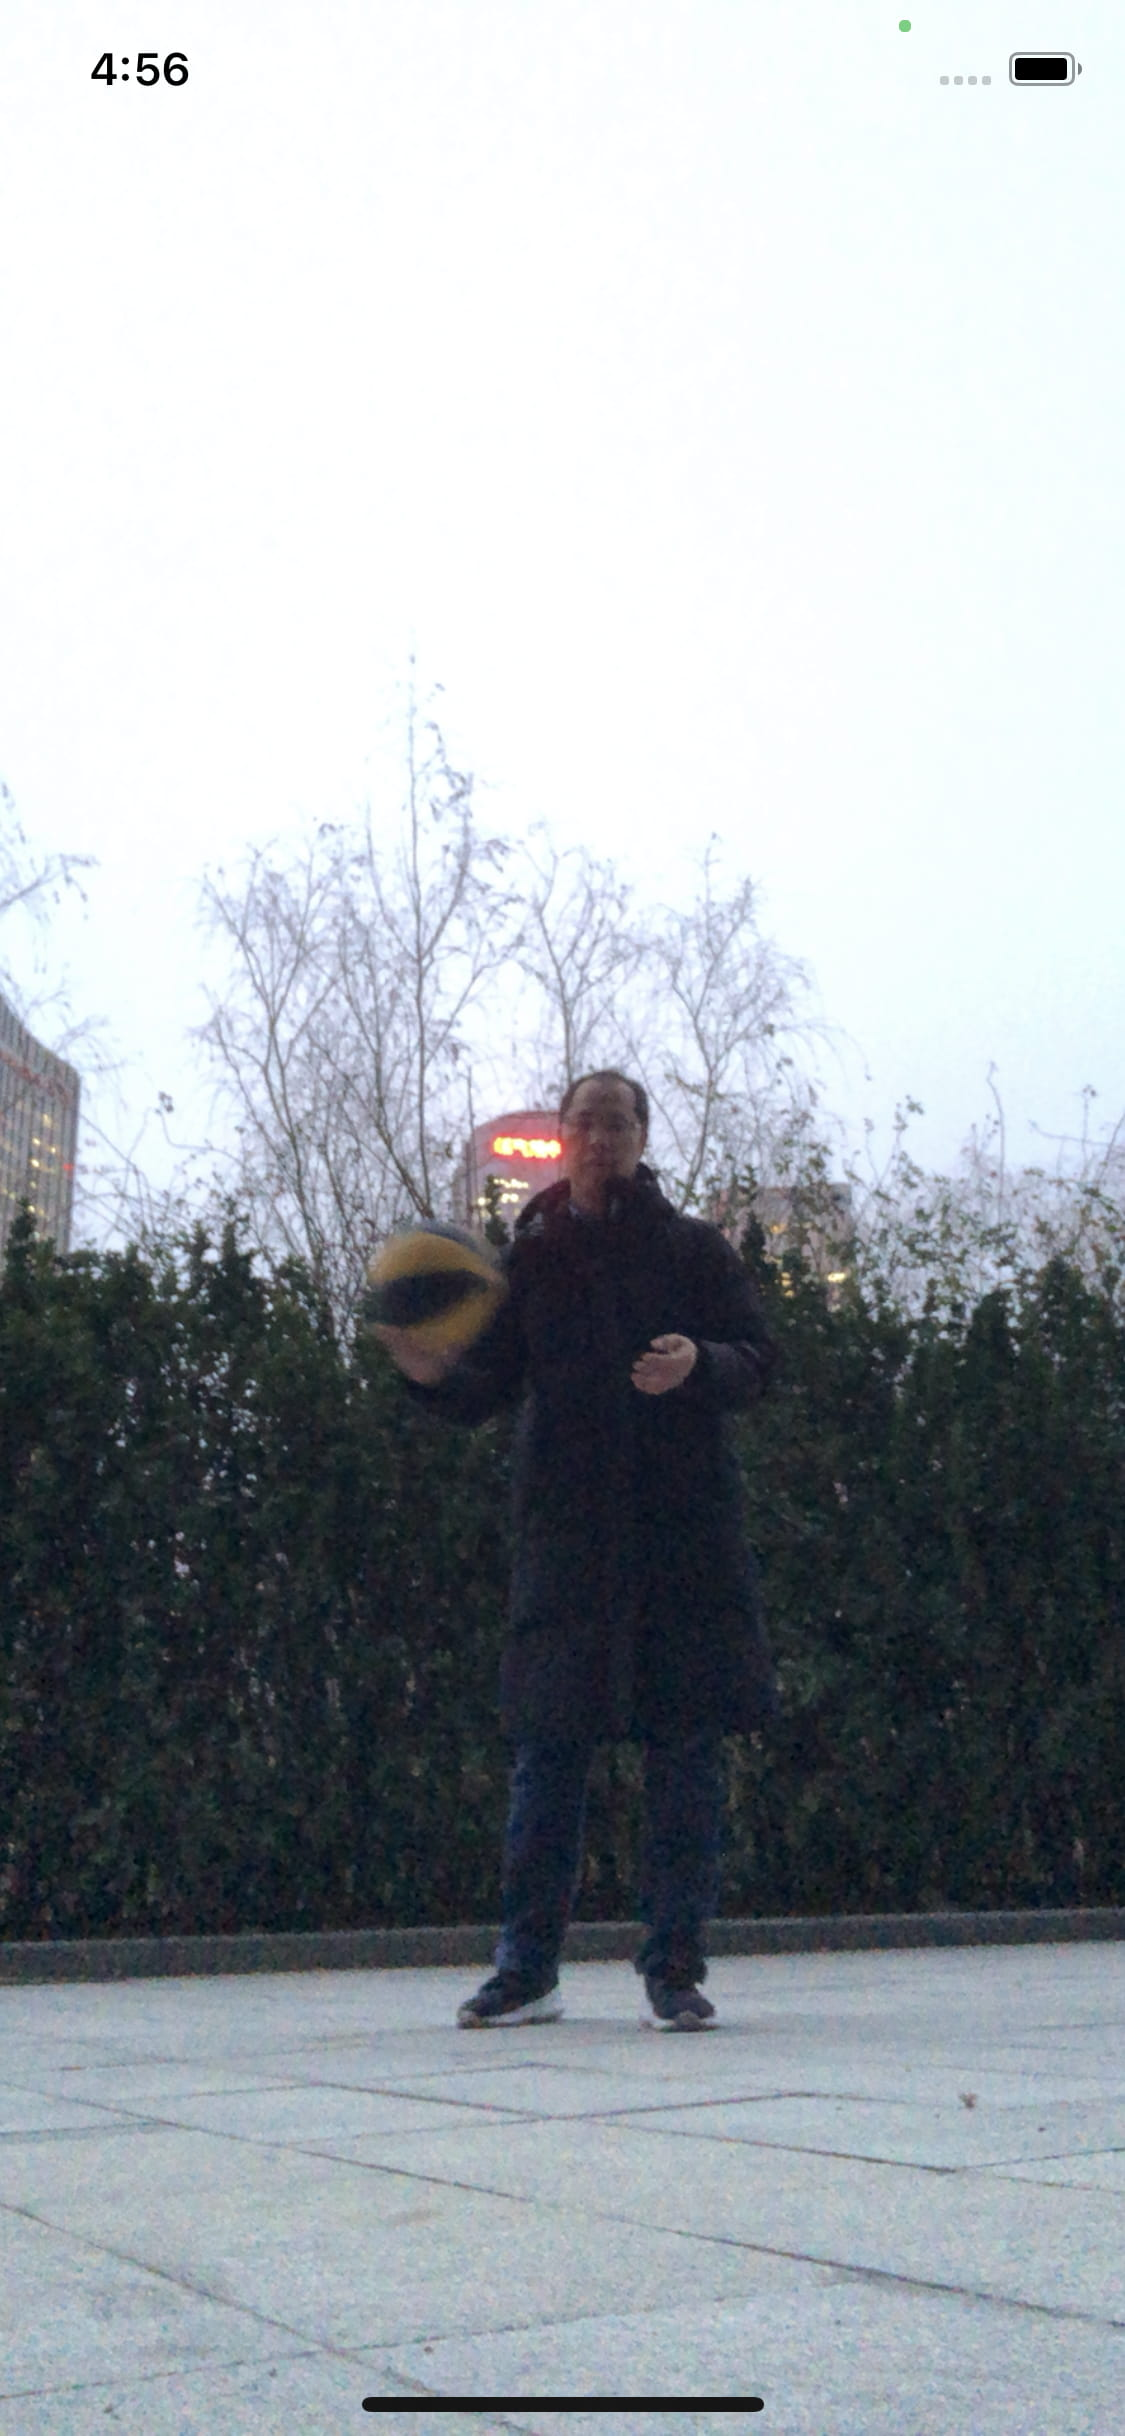ball: (364, 1220, 507, 1362)
